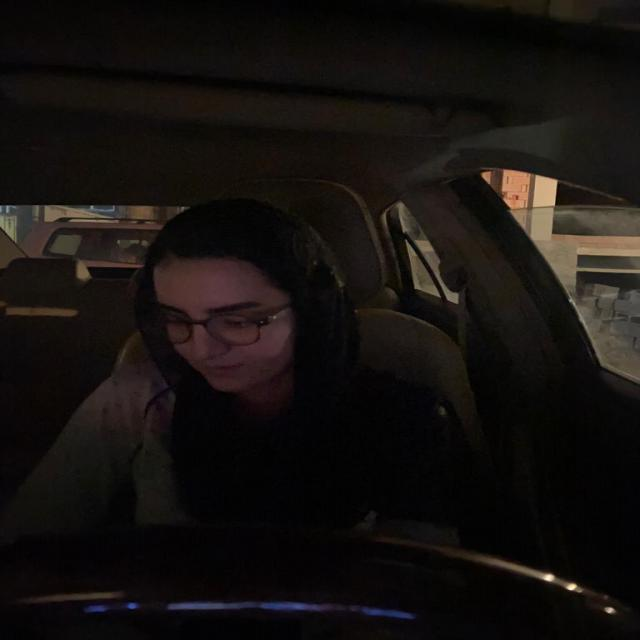person: (136, 205, 348, 407)
